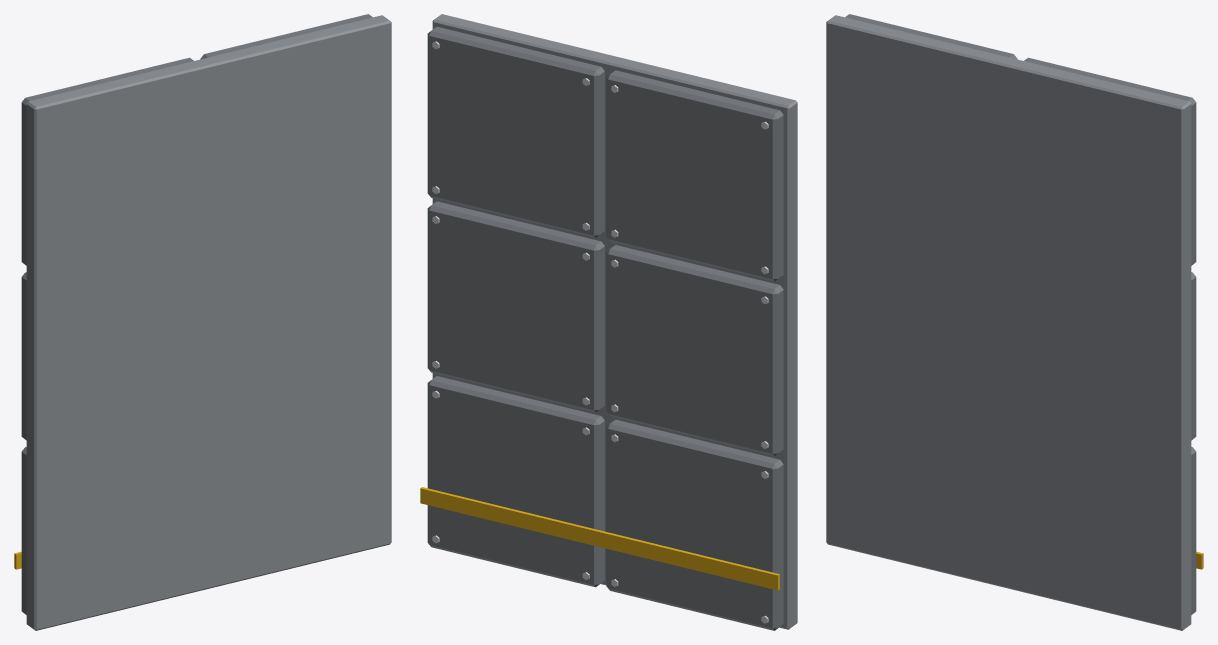
File: bulkhead_plating.glb
3 views of the same model, side by side, from view 1: azimuth 30°, elevation 25°; view 2: azimuth 150°, elevation 25°; view 3: azimuth 330°, elevation 25° (orthographic).
Visible parts, largest first — view 1: bulkhead_plating; view 2: bulkhead_plating; view 3: bulkhead_plating.
Part boxes in pixels (left/top/right/bottom): bulkhead_plating: left=14, top=14, right=391, bottom=630; bulkhead_plating: left=420, top=14, right=797, bottom=630; bulkhead_plating: left=826, top=14, right=1203, bottom=630.
Bounding box in the file's own units: 2 × 2.8 × 0.2.
